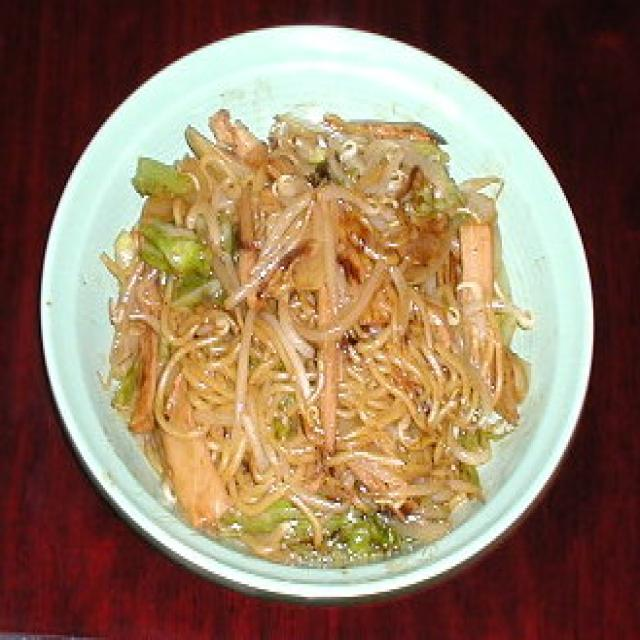面条主食: (27, 5, 603, 617)
